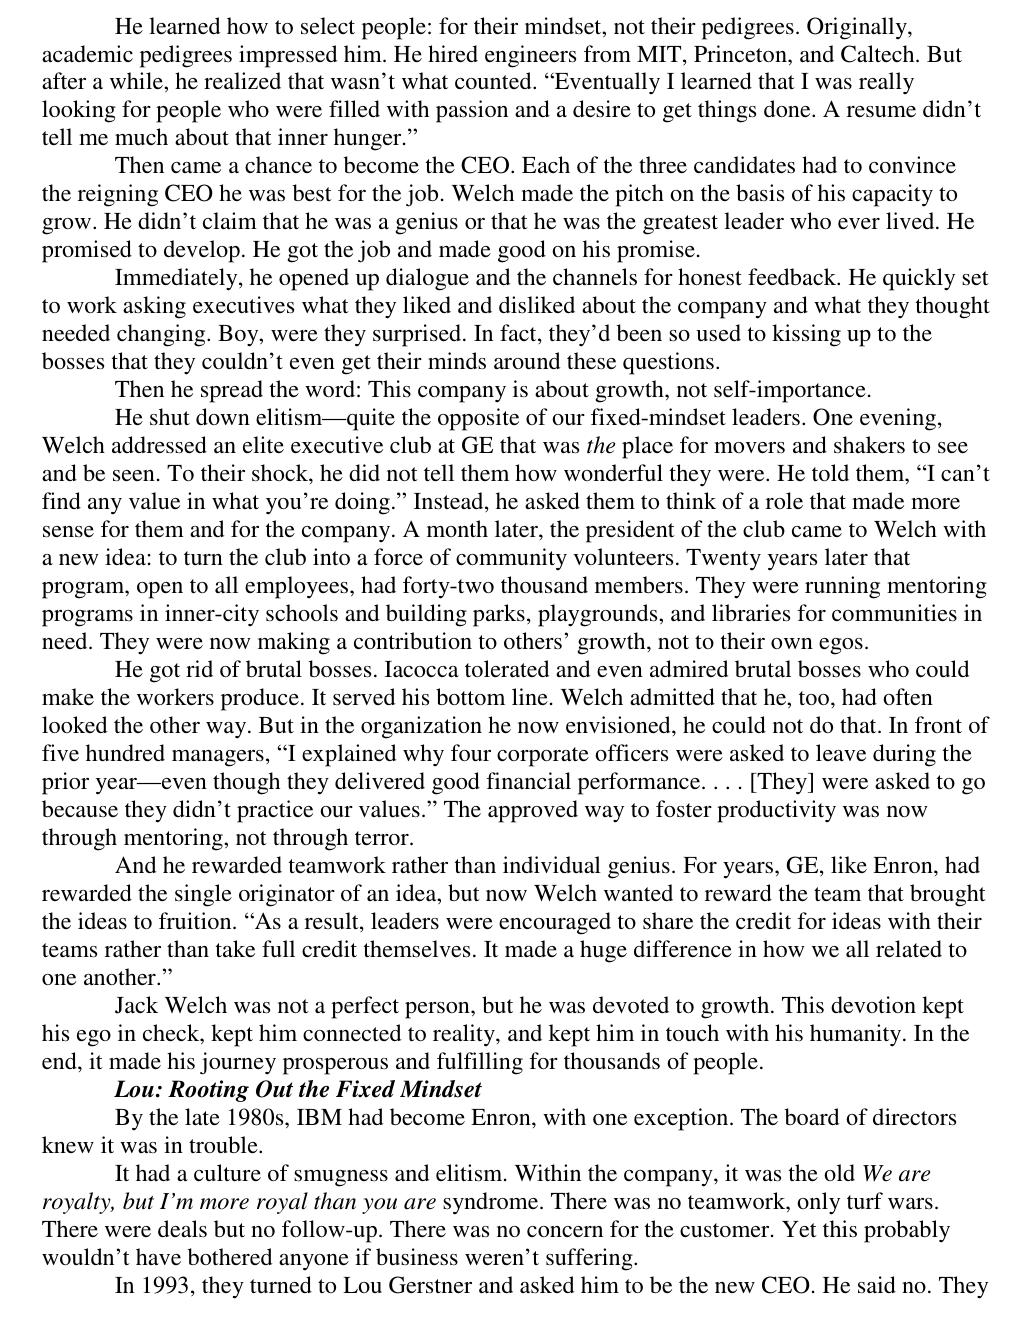latin: (35, 375, 992, 653), (34, 1073, 993, 1302), (38, 653, 991, 847), (33, 849, 986, 993), (39, 14, 985, 151), (34, 150, 977, 263), (30, 263, 990, 374), (38, 993, 972, 1073)
